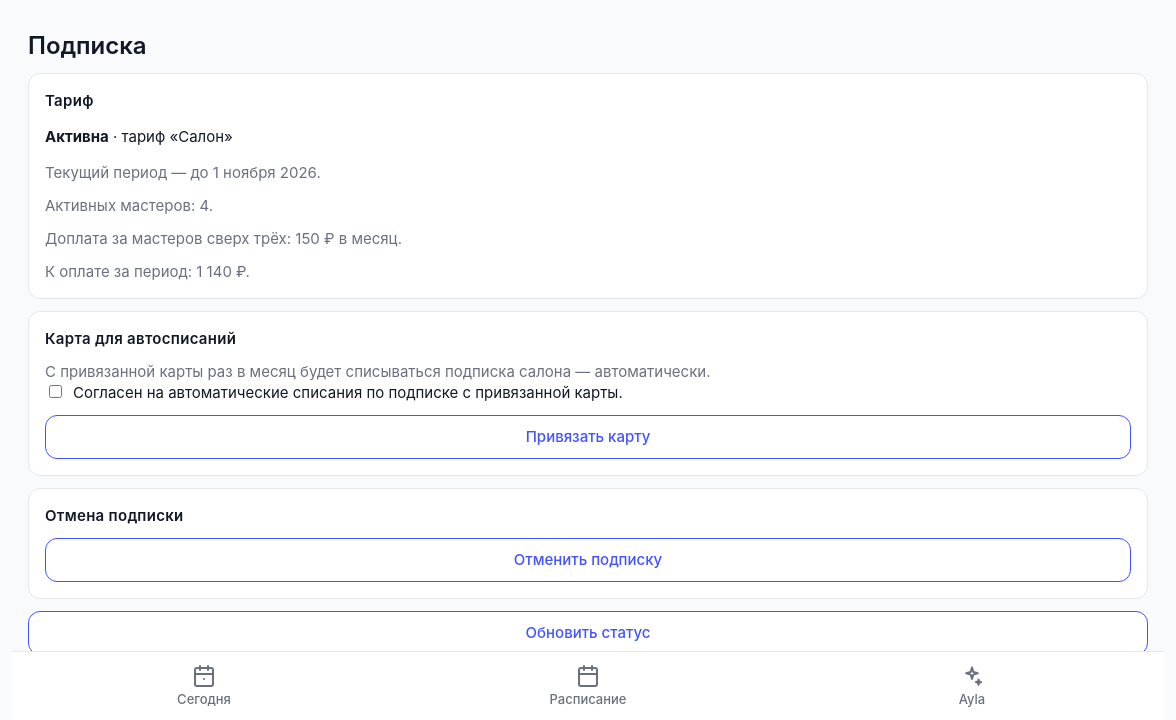
переход «Соло» → «Салон» (В-2) › после открытия формы привязки — можно привязать заново
Click the checkbox.
click(56, 391)  # box [49,385,62,398]
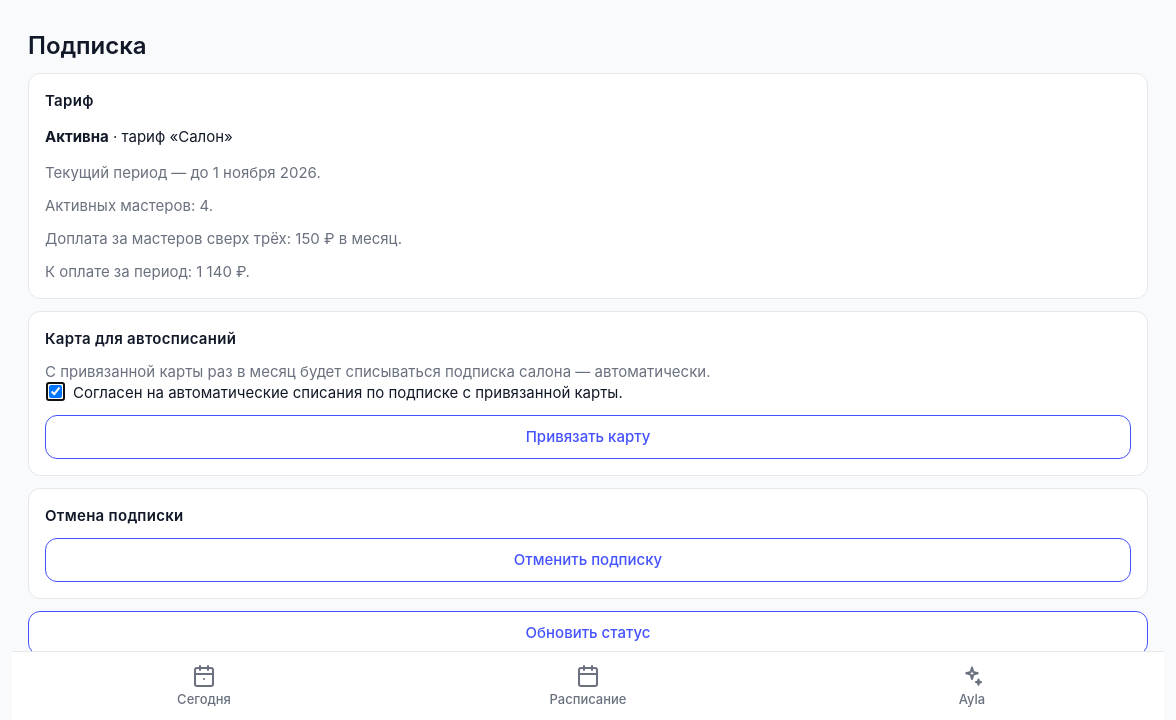
Click the button "Привязать карту".
click(588, 437)  # box [45,415,1131,459]
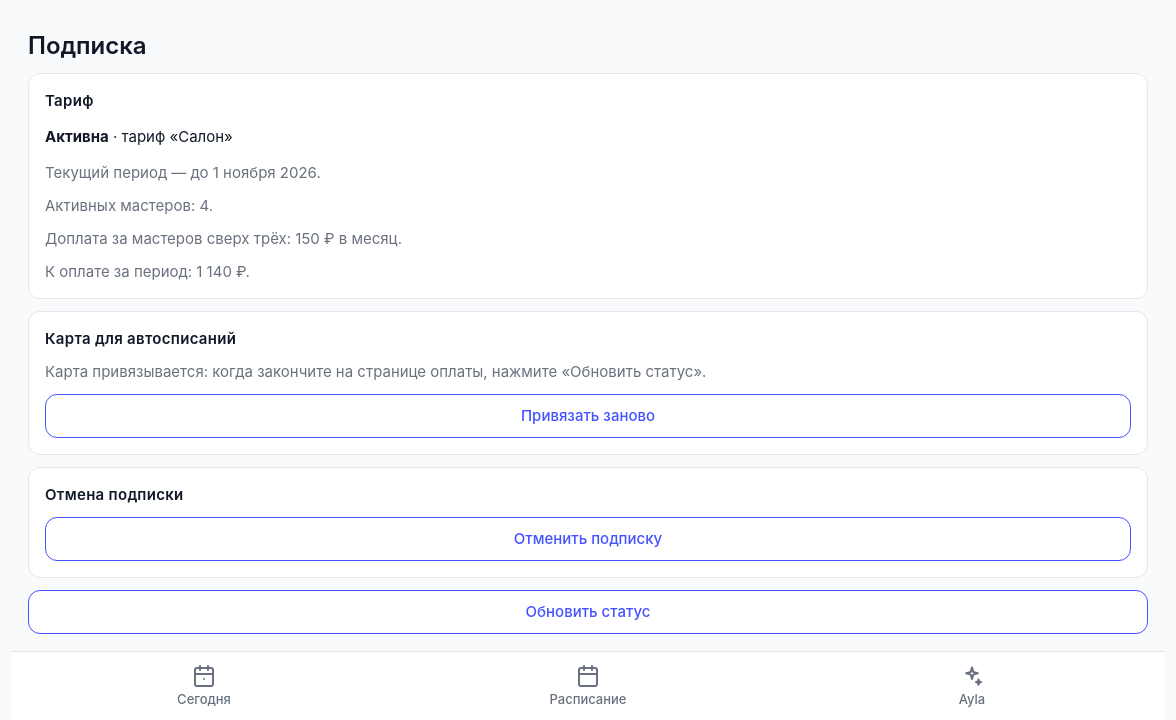
Click the button "Привязать заново".
click(588, 416)  # box [45,394,1131,438]
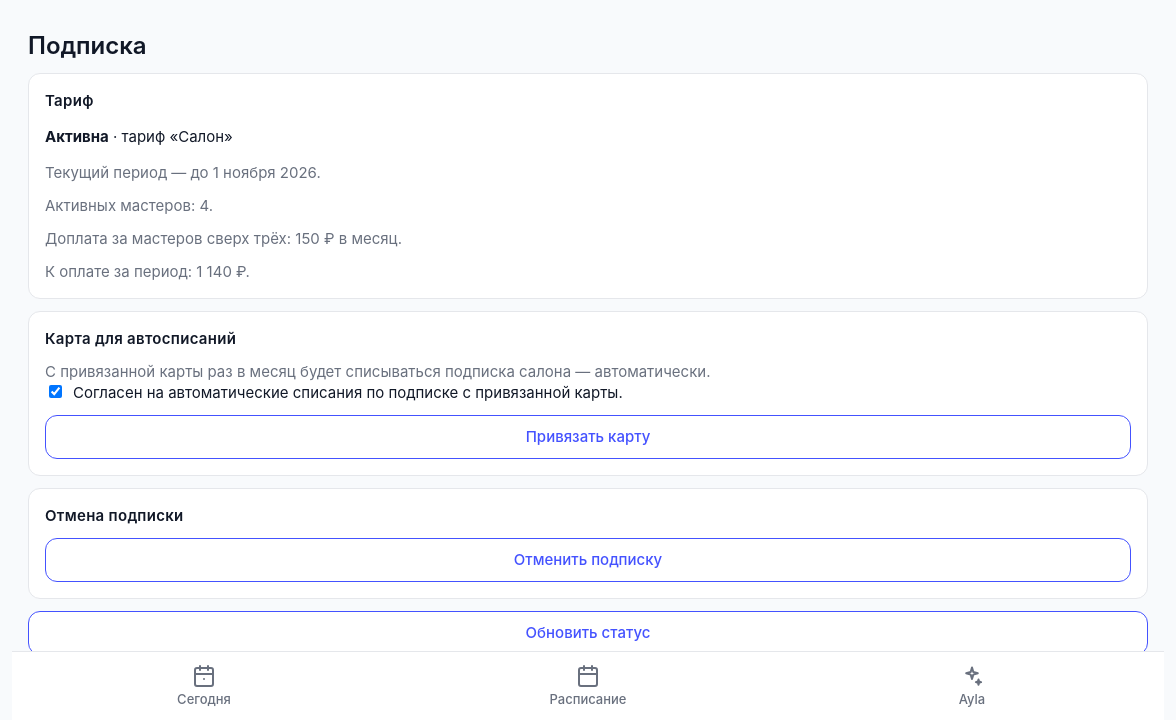
Check: the button "Привязать карту" is shown, box [45,415,1131,459]
